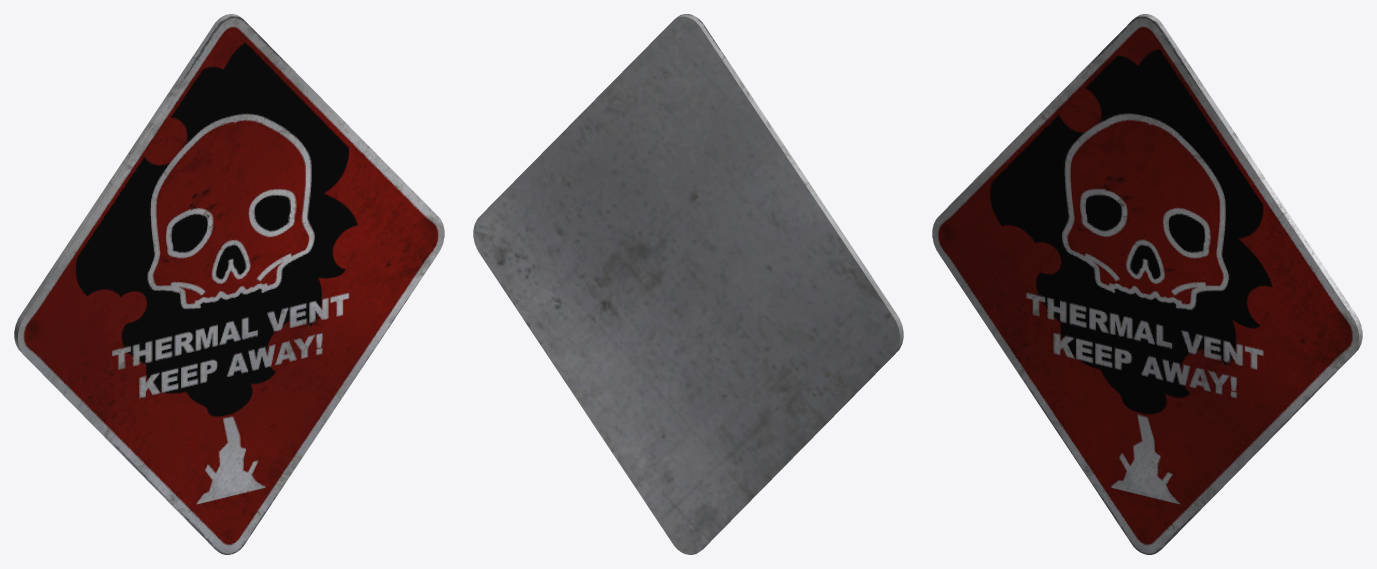
The model's file is sign_outside_smoker.dae.
The picture shows the model from 3 angles, left to right: view 1: azimuth 30°, elevation 25°; view 2: azimuth 150°, elevation 25°; view 3: azimuth 330°, elevation 25°; orthographic projection.
Parts seen in each view (by area): view 1: sign_outside_smoker; view 2: sign_outside_smoker; view 3: sign_outside_smoker.
Boxes of the visible parts, x1=… form: sign_outside_smoker: x1=14, y1=14, x2=444, y2=554; sign_outside_smoker: x1=473, y1=14, x2=903, y2=554; sign_outside_smoker: x1=932, y1=14, x2=1362, y2=554.
Size of the model in its own units: 0.4147 by 0.4991 by 0.00614.
